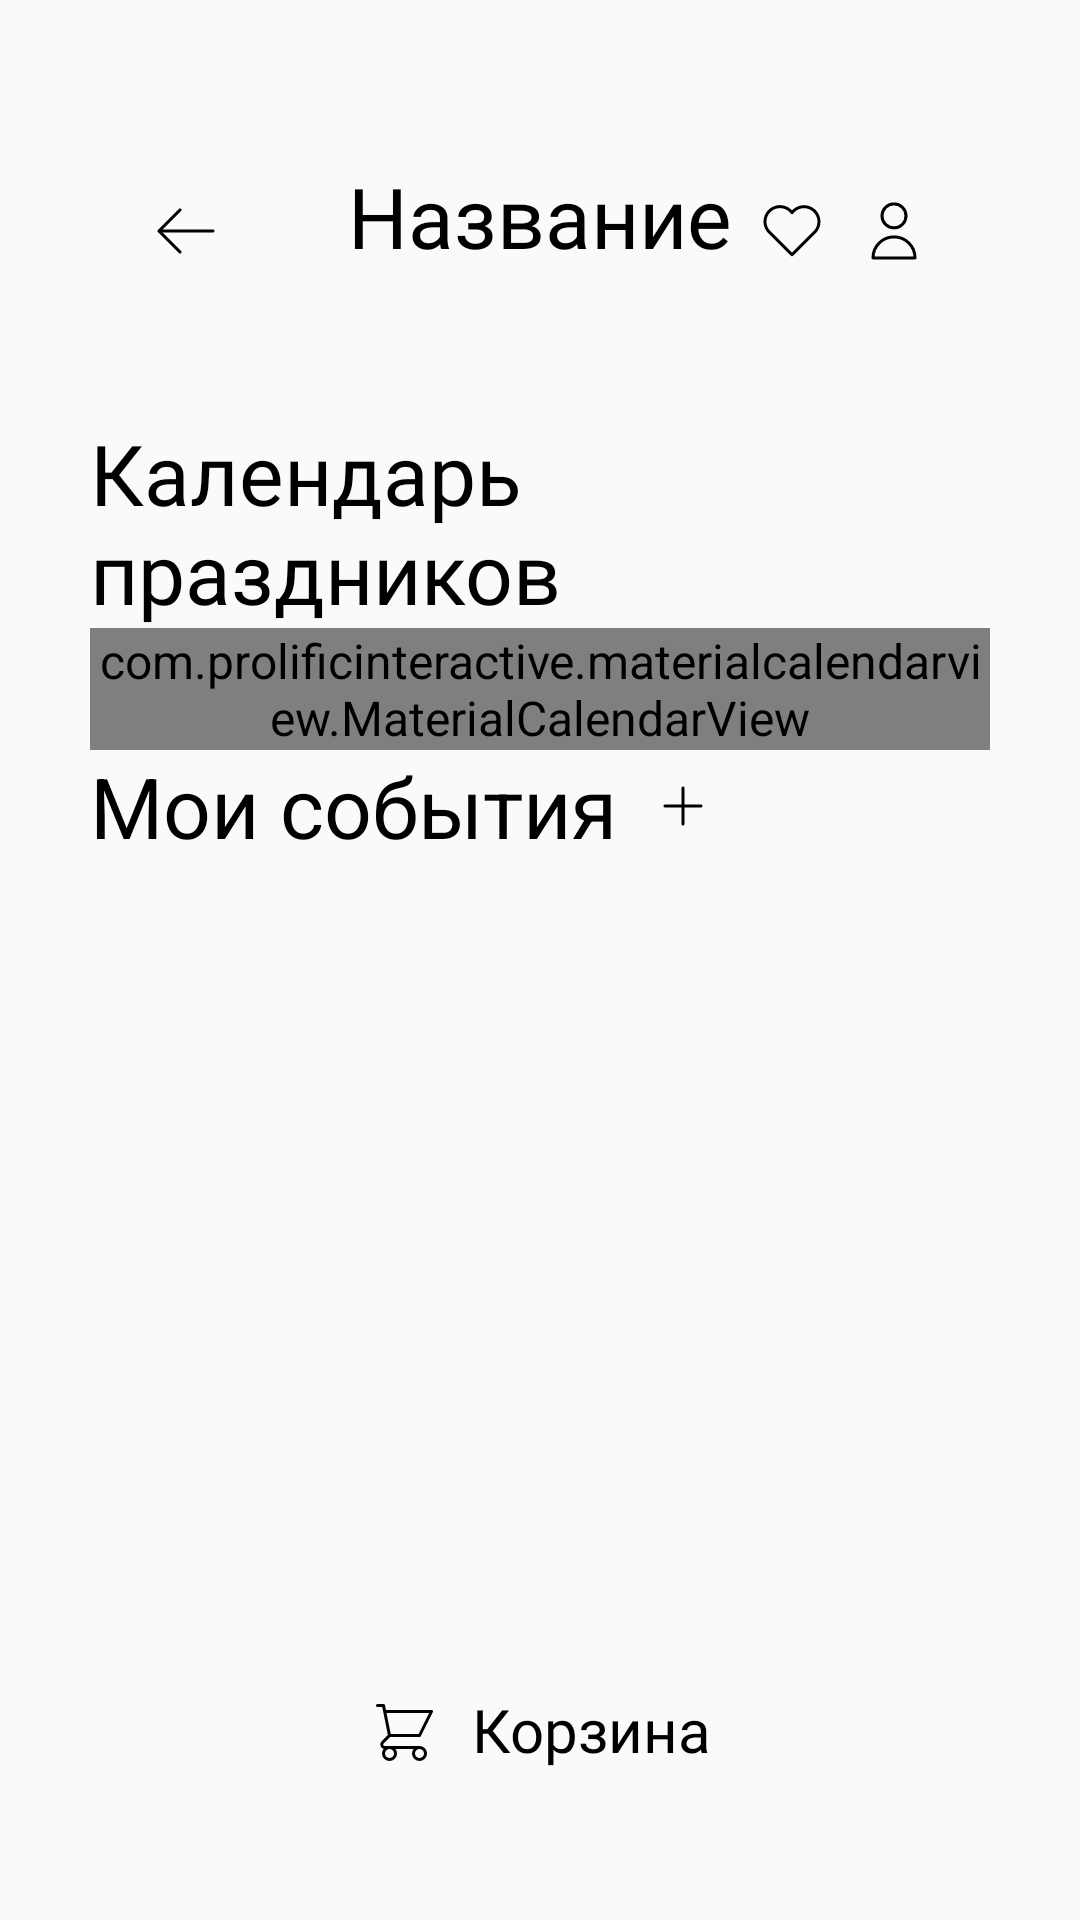

Screen size 1080x1920. Icon name, then its center in pixels as (x=x, y=y):
arrow left: (x=186, y=231)
player heart: (x=792, y=231)
plus: (x=683, y=806)
shopping cart: (x=404, y=1732)
user: (x=894, y=231)
